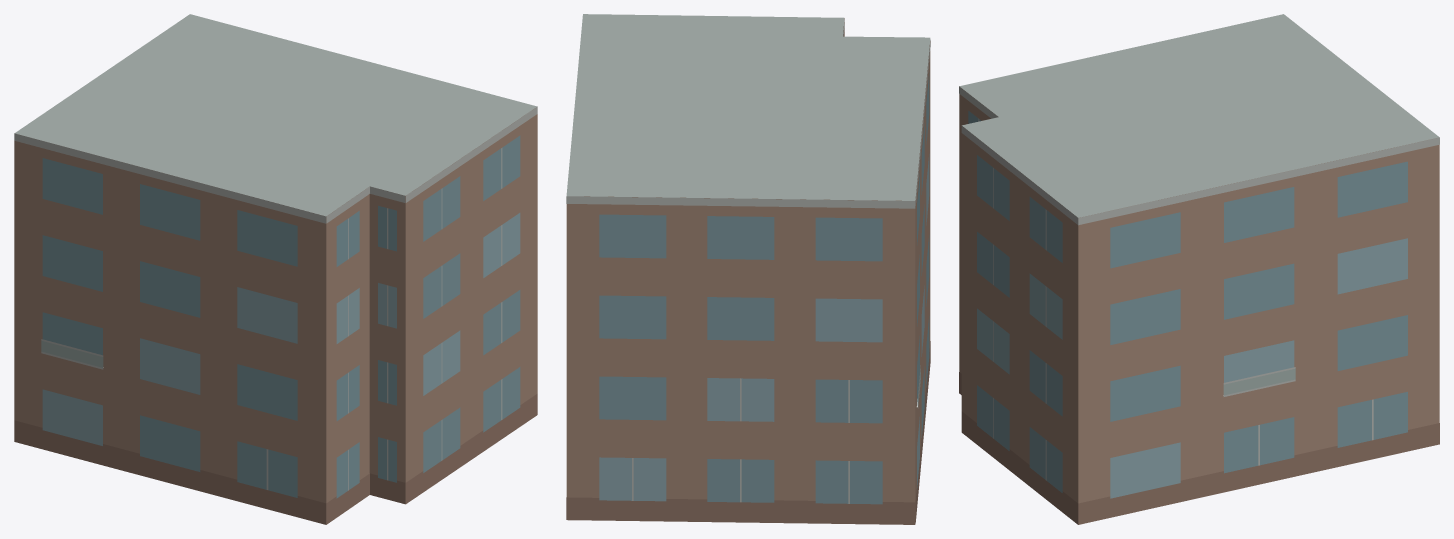
The model's file is survey-upis-32915873.glb.
The picture shows the model from 3 angles, left to right: view 1: azimuth 30°, elevation 25°; view 2: azimuth 150°, elevation 25°; view 3: azimuth 270°, elevation 25°; orthographic projection. The views are drawn at different scales.
Visible parts, largest first — view 1: survey-upis-32915873.tmp; view 2: survey-upis-32915873.tmp; view 3: survey-upis-32915873.tmp.
Part boxes in pixels (x1,y1,x2,y2): survey-upis-32915873.tmp: (14, 14, 537, 524); survey-upis-32915873.tmp: (566, 14, 930, 524); survey-upis-32915873.tmp: (959, 14, 1439, 524).
Bounding box in the file's own units: 14.54 × 10.2 × 14.48.
